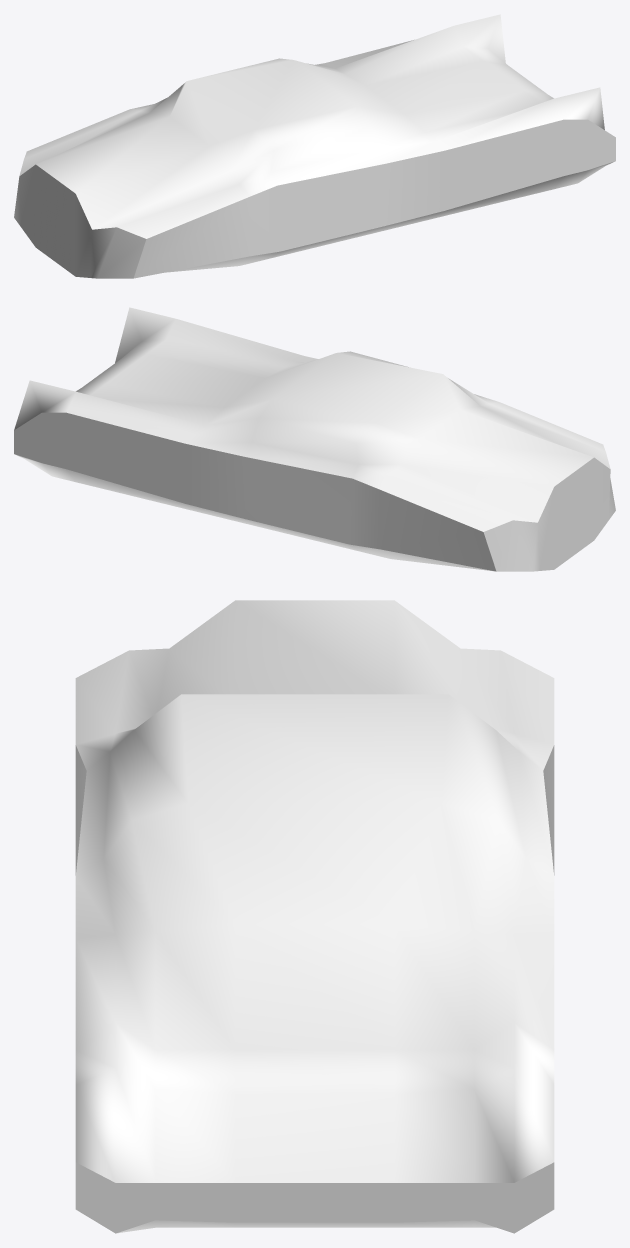
Rendered from CorvegaV8Collider.obj.
3 renders of one model, top to bottom at view 1: azimuth 30°, elevation 25°; view 2: azimuth 150°, elevation 25°; view 3: azimuth 270°, elevation 25°, orthographic. The views are drawn at different scales.
Parts seen in each view (by area): view 1: collider; view 2: collider; view 3: collider.
Boxes of the visible parts, bbox=[...] form: collider: bbox=[14, 14, 615, 278]; collider: bbox=[14, 307, 615, 571]; collider: bbox=[75, 600, 554, 1233].
Size of the model in its own units: 445 by 98.94 by 184.
